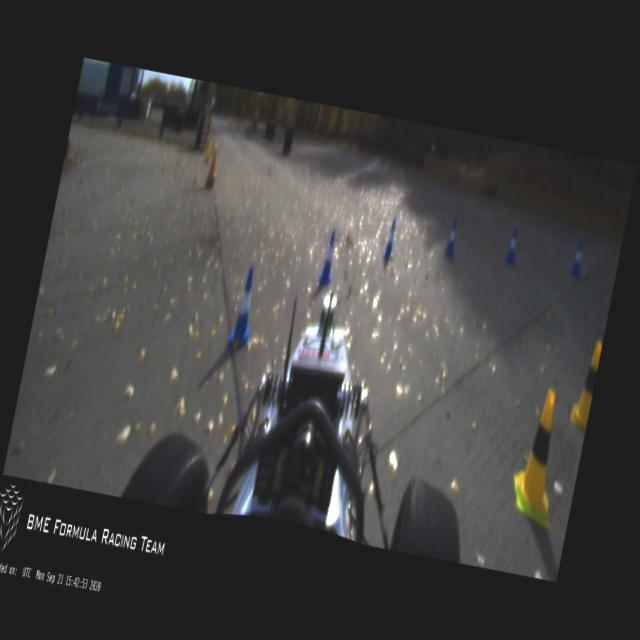blue_cone: (226, 268, 262, 352), (318, 232, 339, 282), (504, 224, 522, 264), (569, 239, 587, 279), (382, 219, 399, 260), (444, 220, 459, 255)
yellow_cone: (504, 384, 576, 530), (568, 339, 602, 433)
